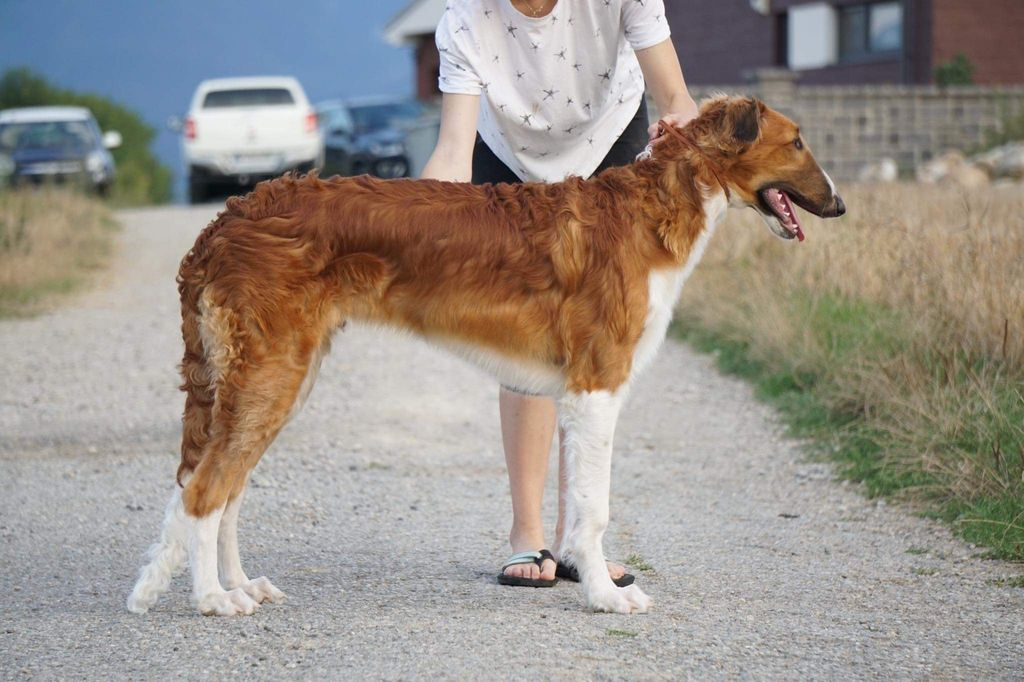borzoi: (120, 92, 854, 626)
